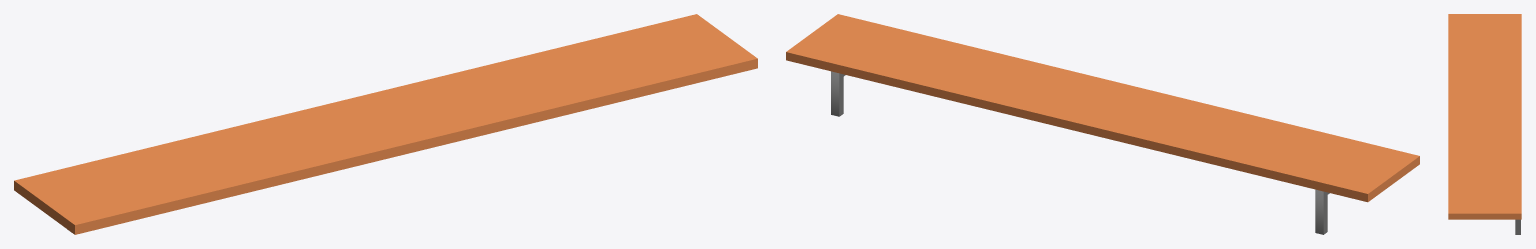
Rendered from SoportePared02.fbx.
3 renders of one model, left to right at view 1: azimuth 30°, elevation 25°; view 2: azimuth 150°, elevation 25°; view 3: azimuth 270°, elevation 25°, orthographic. The views are drawn at different scales.
Visible parts, largest first — view 1: SoportePared02; view 2: SoportePared02; view 3: SoportePared02.
Boxes of the visible parts, bbox=[...] form: SoportePared02: bbox=[14, 14, 757, 234]; SoportePared02: bbox=[786, 14, 1419, 234]; SoportePared02: bbox=[1448, 14, 1521, 234].
Bounding box in the file's own units: 336 × 28.74 × 51.96.
